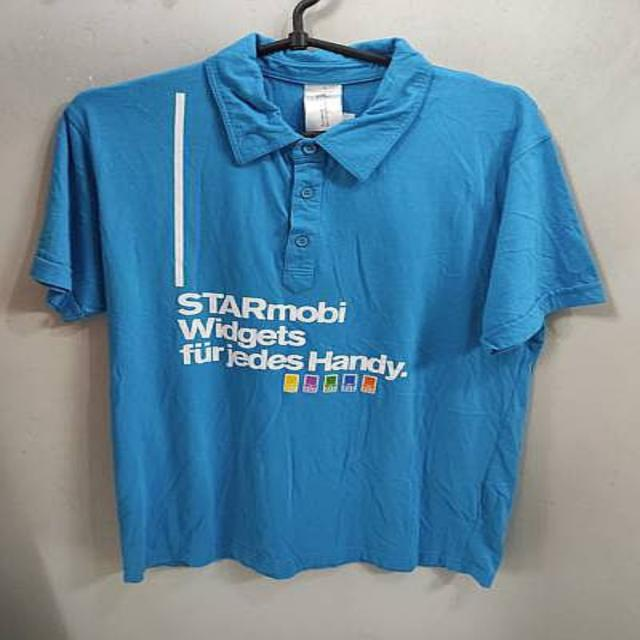T_SHIRT: (18, 28, 617, 593)
